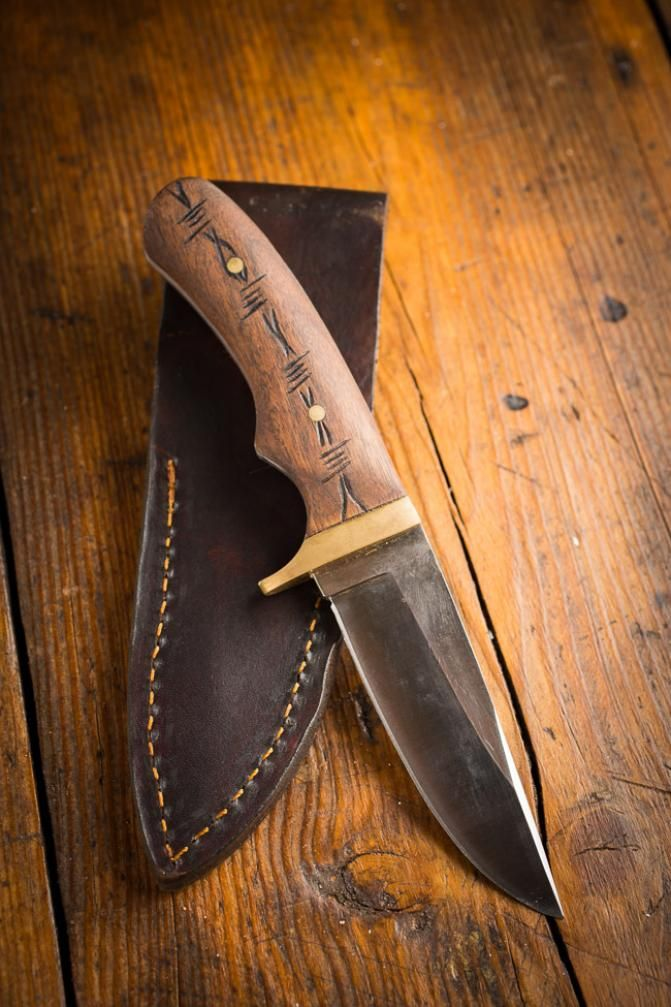knife: (126, 164, 576, 936)
